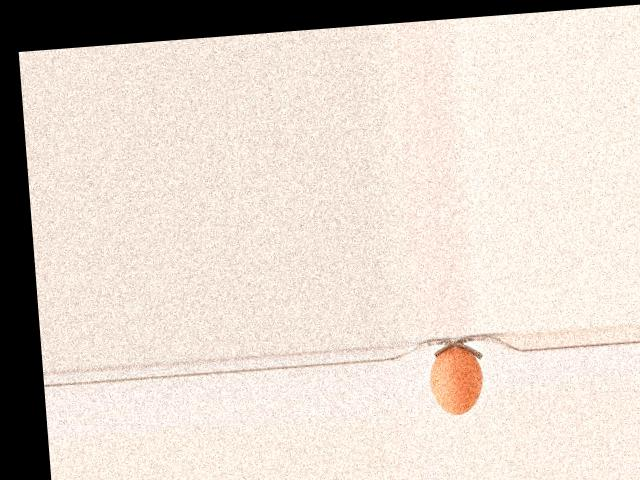egg: (427, 346, 484, 416)
